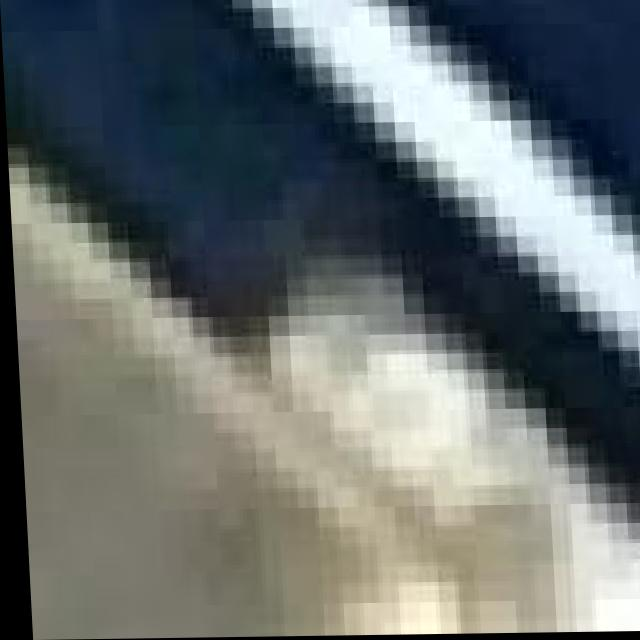clock: (1, 21, 622, 640)
